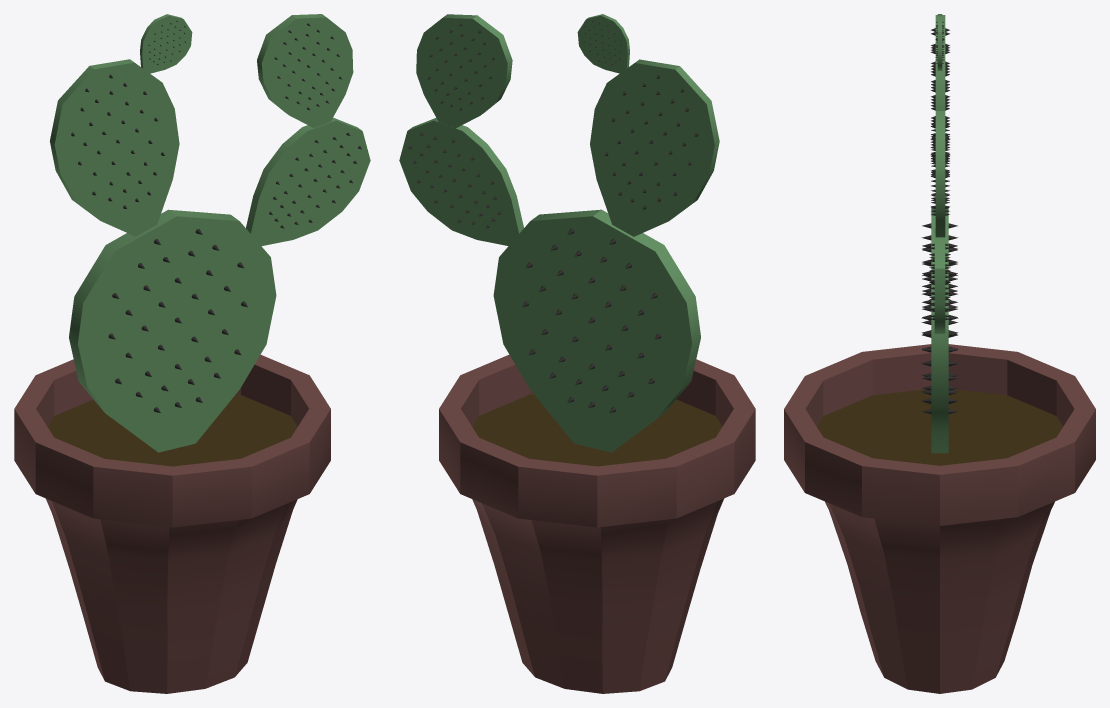
The model's file is cactus.fbx.
3 renders of one model, left to right at view 1: azimuth 30°, elevation 25°; view 2: azimuth 150°, elevation 25°; view 3: azimuth 270°, elevation 25°, orthographic.
Parts seen in each view (by area): view 1: cactusPlant01 (×5), pot; view 2: cactusPlant01 (×5), pot; view 3: pot, cactusPlant01 (×4).
Boxes of the visible parts, x1=… form: cactusPlant01 (×5): x1=50, y1=14, x2=370, y2=452; pot: x1=14, y1=354, x2=330, y2=693; cactusPlant01 (×5): x1=399, y1=14, x2=719, y2=452; pot: x1=439, y1=354, x2=755, y2=693; pot: x1=784, y1=344, x2=1095, y2=693; cactusPlant01 (×4): x1=931, y1=15, x2=948, y2=453.
Size of the model in its own units: 1.03 by 1.93 by 0.8508.
